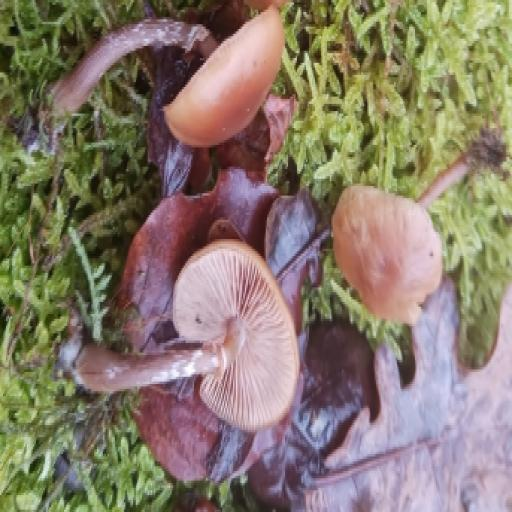mushroom: (87, 211, 329, 442), (327, 176, 481, 332), (154, 3, 288, 178)
